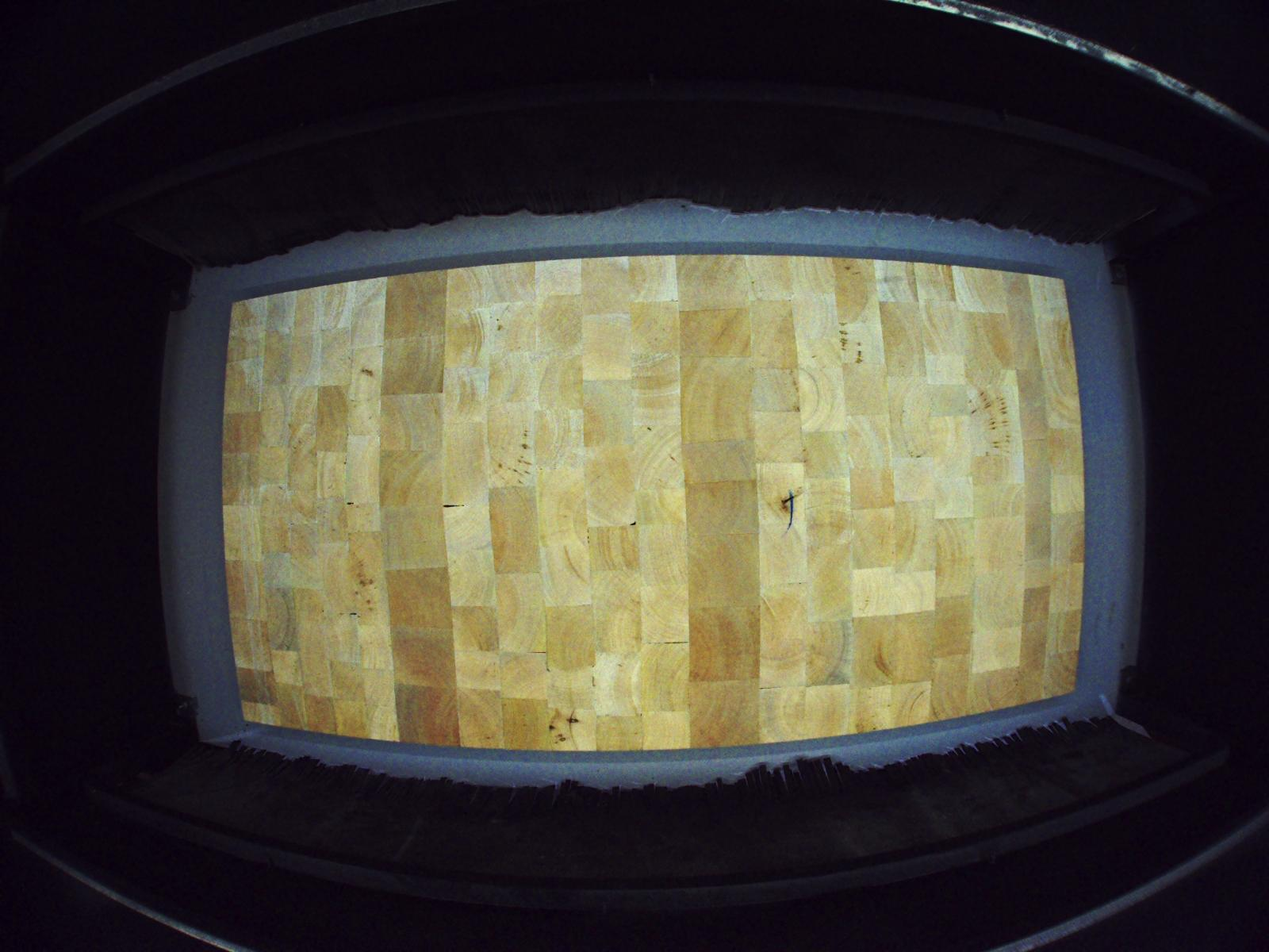nudillo: (780, 491, 803, 513)
sheck_ecuatoriano: (565, 708, 589, 750)
